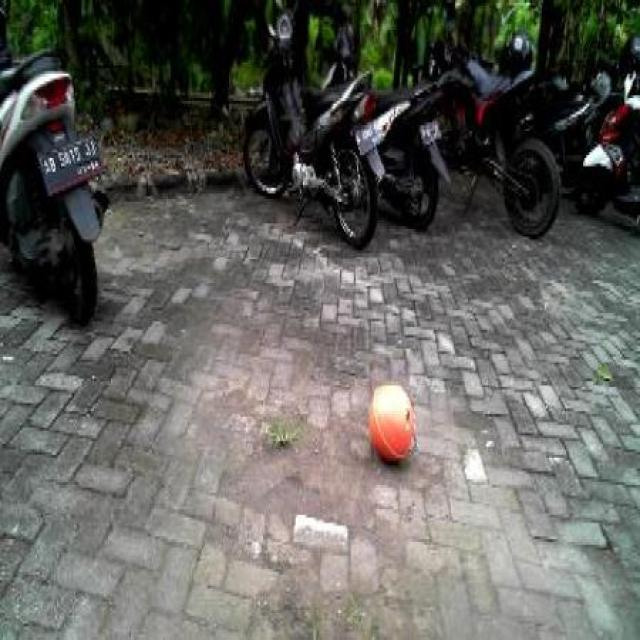buoy: (364, 372, 414, 470)
